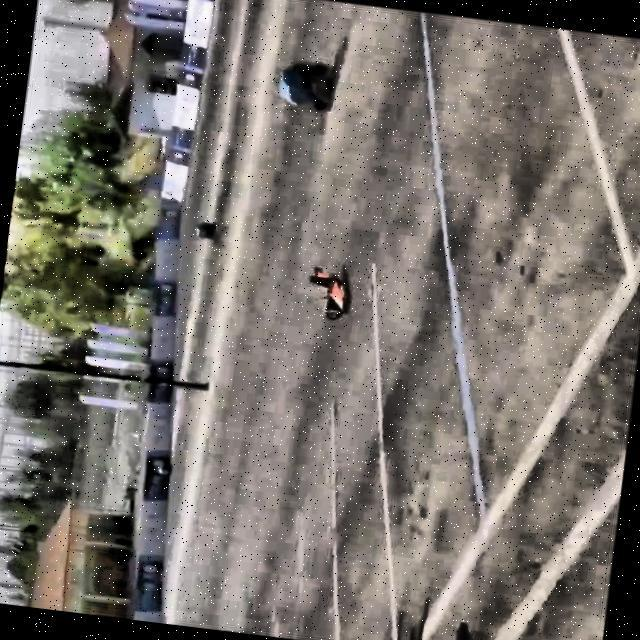iha: (293, 293, 356, 296)
